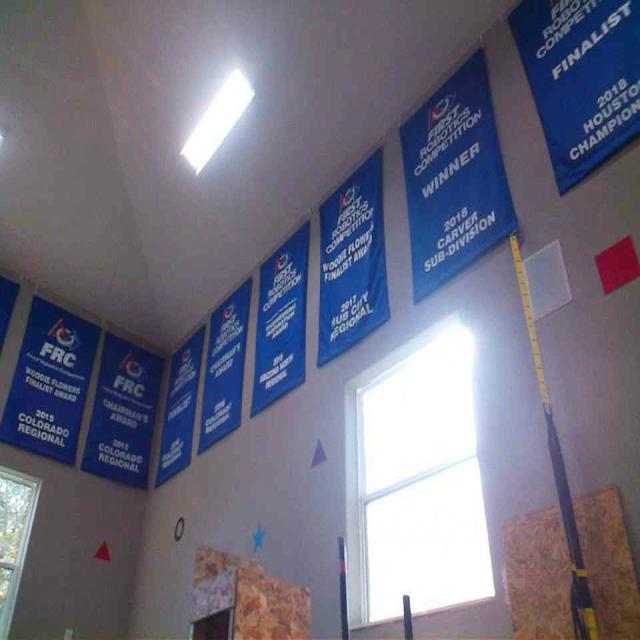ring_black: (173, 514, 185, 540)
square_red: (594, 233, 640, 295)
star_blue: (250, 524, 265, 553)
triangle_purple: (309, 440, 327, 468)
triangle_red: (93, 540, 111, 562)
